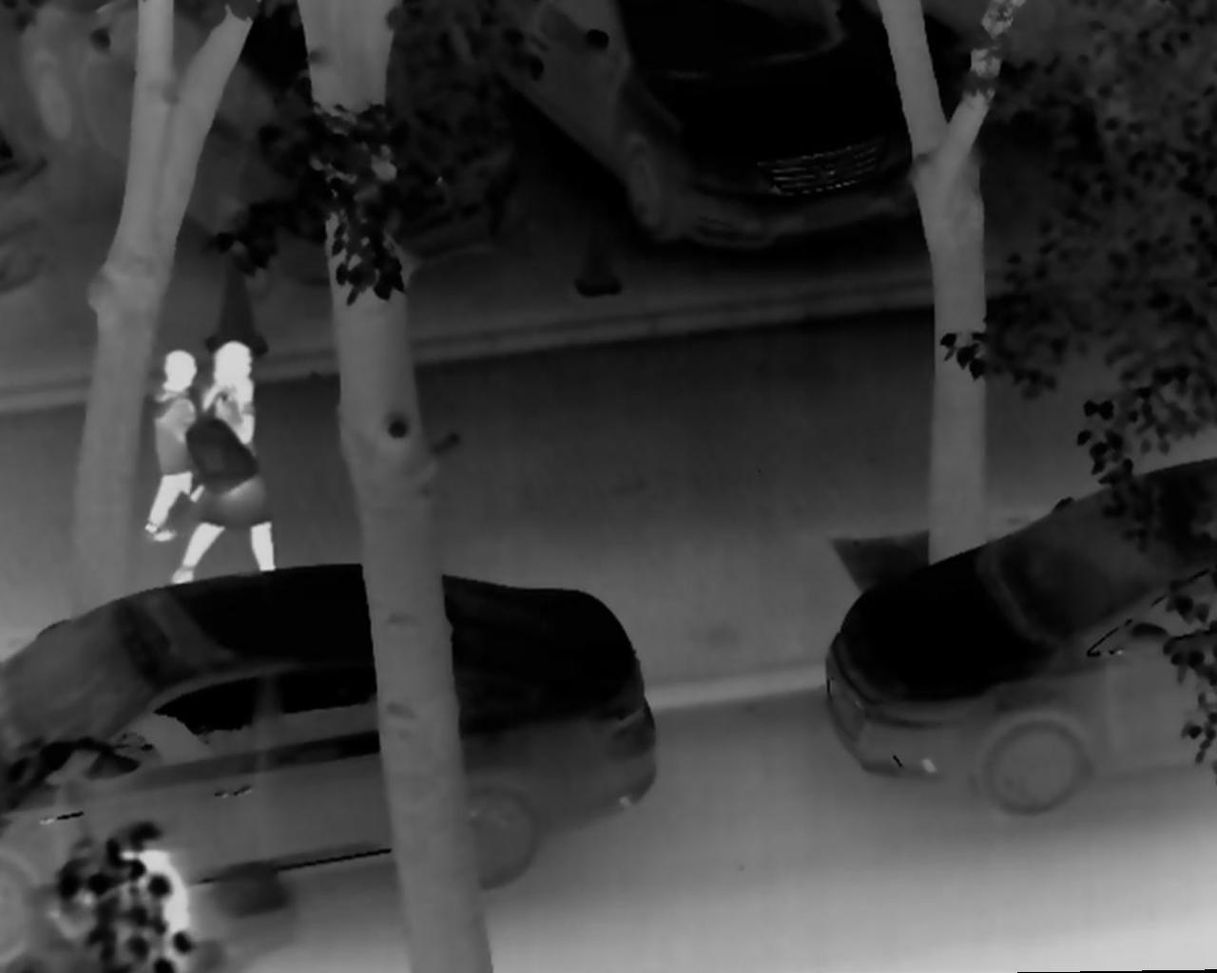person: (170, 334, 279, 587), (68, 816, 203, 973), (146, 340, 214, 542)
